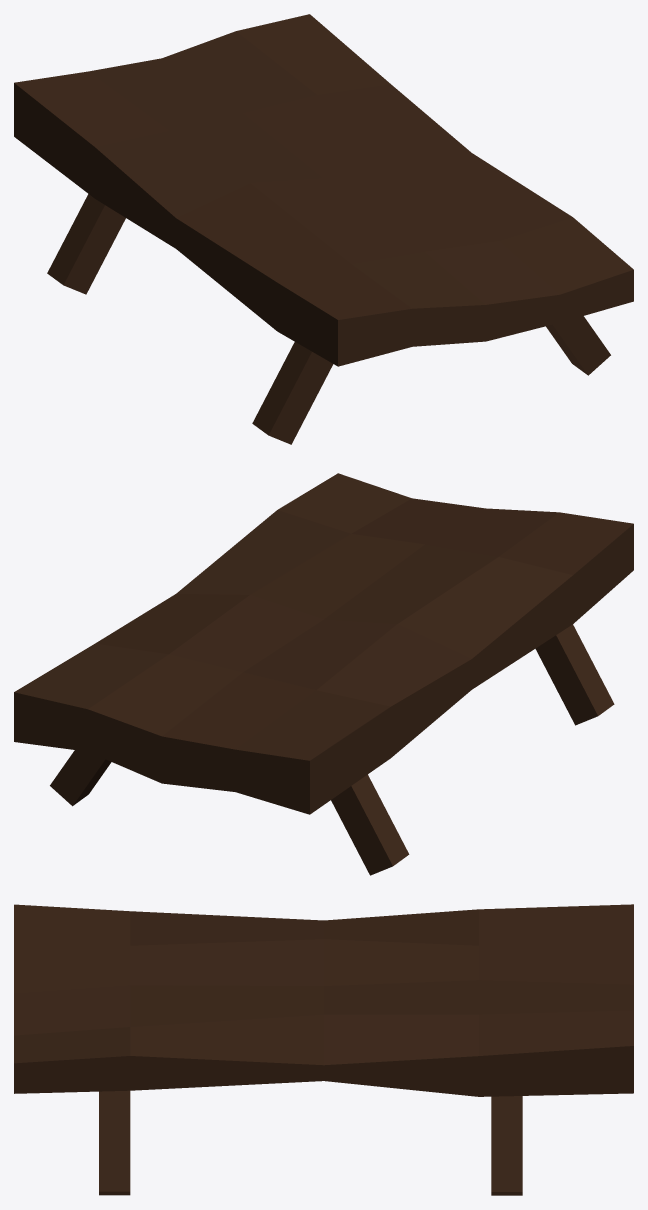
File: Table_Low.fbx
3 views of the same model, one above another, from view 1: azimuth 30°, elevation 25°; view 2: azimuth 150°, elevation 25°; view 3: azimuth 270°, elevation 25° (orthographic). The views are drawn at different scales.
Visible parts, largest first — view 1: Table Low; view 2: Table Low; view 3: Table Low.
Part boxes in pixels (bbox=[...]): Table Low: bbox=[14, 14, 633, 444]; Table Low: bbox=[14, 473, 633, 875]; Table Low: bbox=[14, 904, 633, 1195].
Bounding box in the file's own units: 122 × 54.55 × 200.
